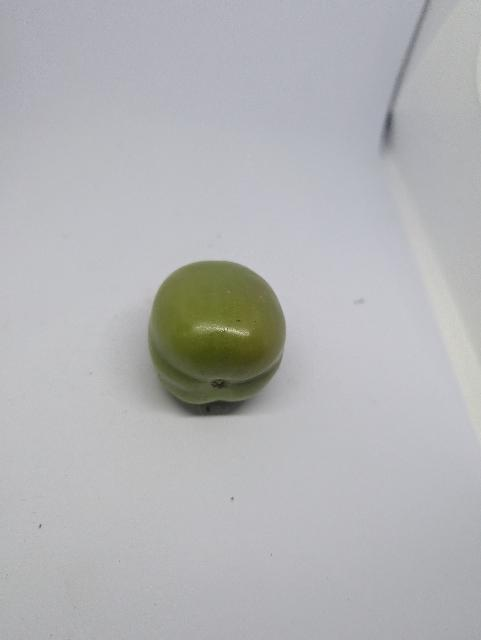green: (118, 236, 315, 442)
